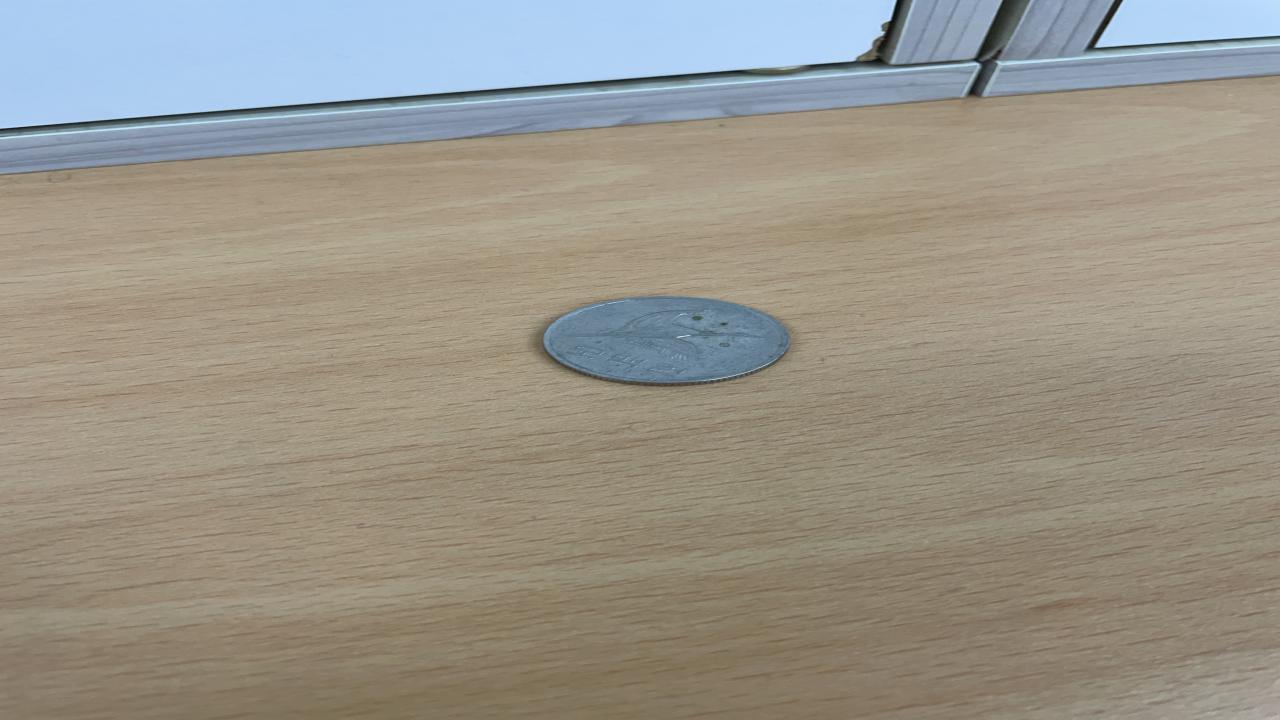coin: (533, 291, 799, 387)
